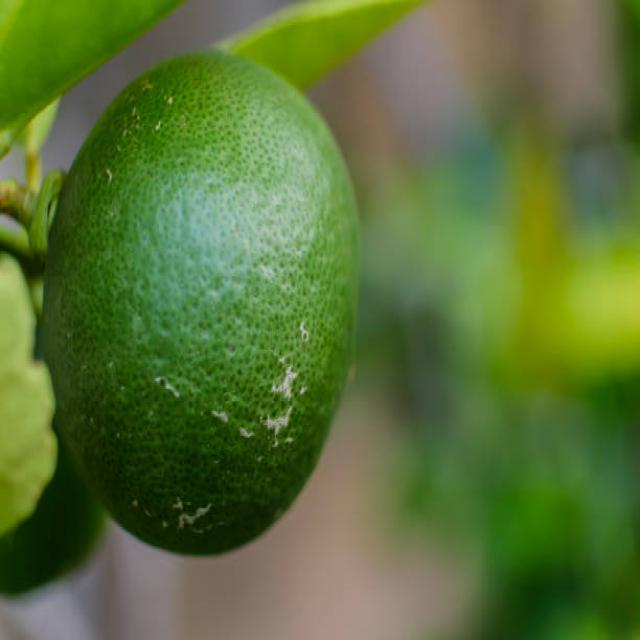Unripe: (40, 46, 362, 559)
